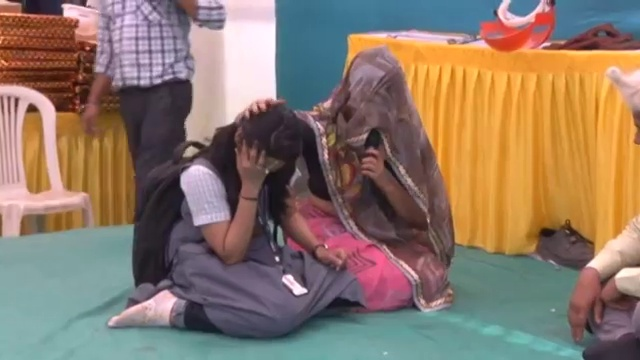helmet: (57, 3, 105, 41)
helmet_off: (334, 44, 420, 147), (232, 98, 309, 176), (608, 60, 640, 155)
person: (125, 94, 350, 329), (282, 41, 456, 310), (75, 0, 216, 175), (567, 55, 640, 359)
